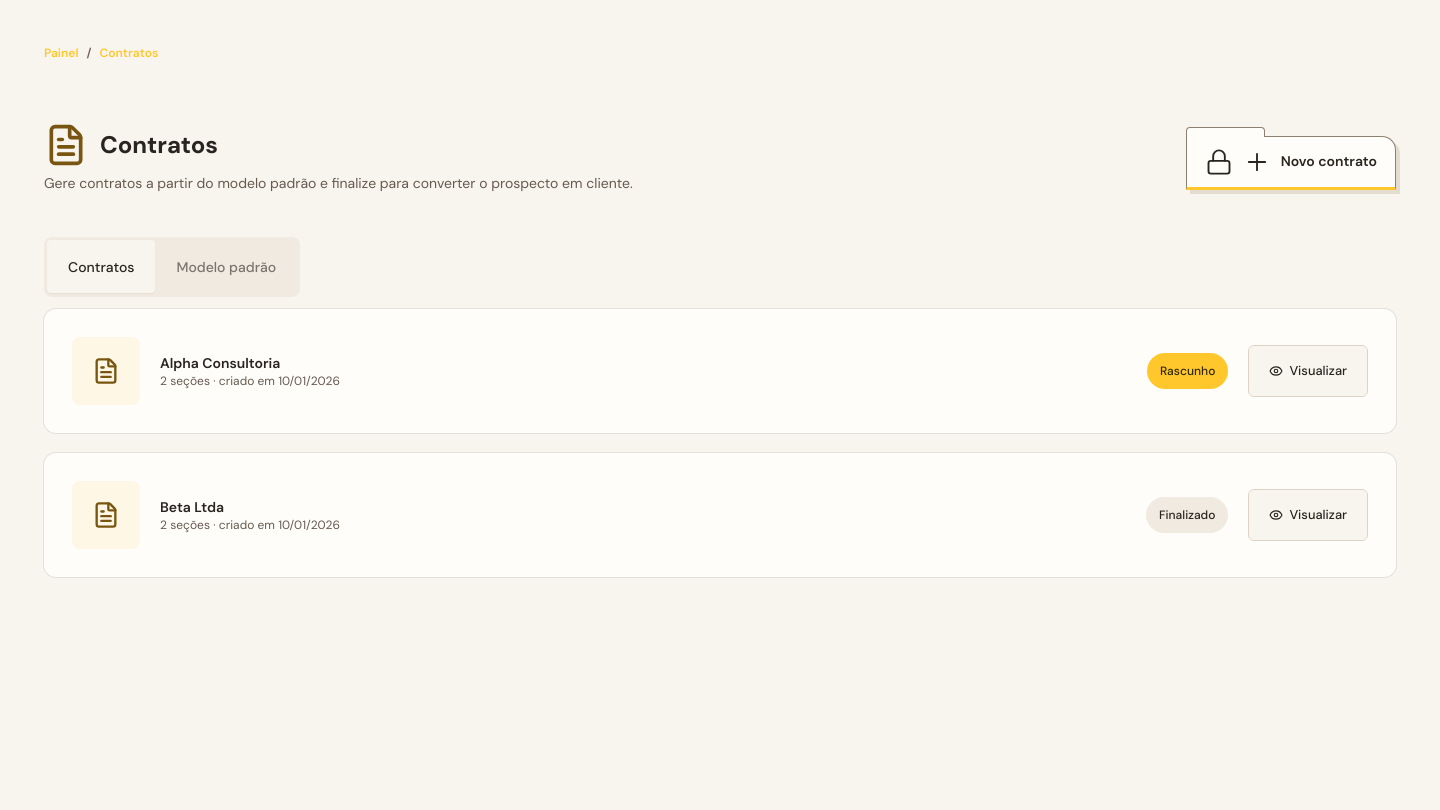
it: ContratosPage › usuário free: clicar em "Novo contrato" abre o modal de upgrade e não abre o modal do contrato
Click the button with test id "new-contract-button": (1291, 163) [1186,136,1396,190]
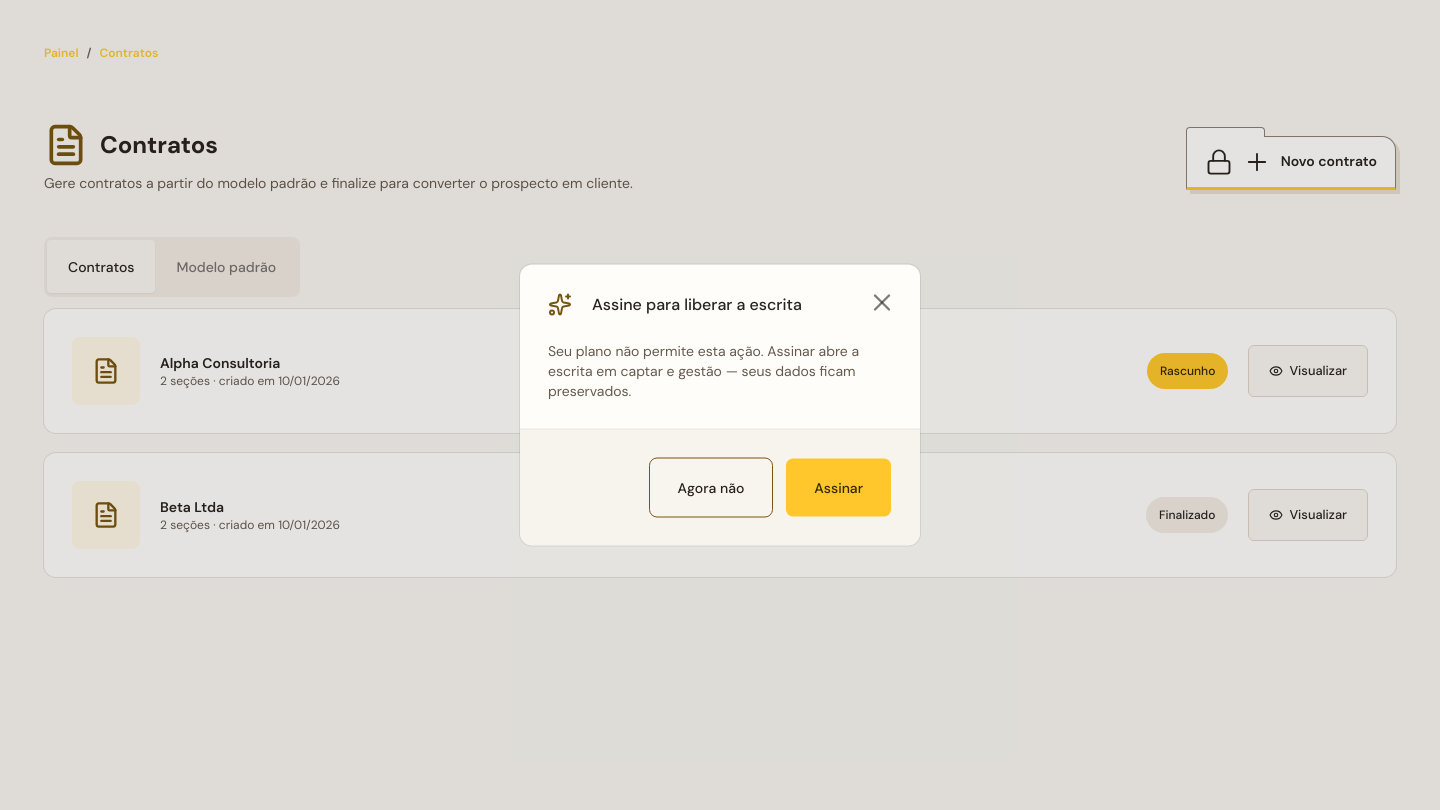
Now the dialog shows "Assine para liberar a escrita", box [592,294,802,314]
